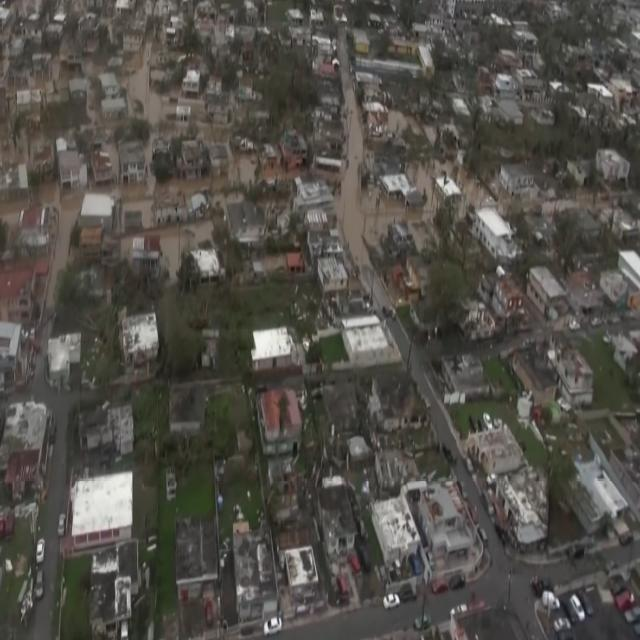house: (71, 469, 137, 546), (0, 404, 54, 494), (90, 544, 140, 625), (174, 516, 221, 599), (544, 330, 594, 408), (372, 497, 422, 567), (468, 423, 526, 478), (257, 387, 303, 455), (318, 485, 358, 550), (278, 529, 320, 588), (1, 321, 32, 394), (472, 209, 517, 259), (600, 251, 640, 305), (121, 312, 160, 367), (526, 266, 567, 318), (344, 317, 389, 364), (48, 332, 81, 390), (250, 327, 294, 369), (0, 269, 35, 321), (167, 387, 205, 431), (226, 201, 265, 241), (595, 146, 631, 182), (151, 188, 188, 223), (18, 203, 55, 237), (501, 164, 535, 198), (58, 150, 87, 188), (118, 142, 145, 182), (317, 256, 346, 292), (379, 173, 416, 201), (181, 142, 205, 180), (434, 177, 464, 206), (446, 0, 486, 20), (520, 70, 545, 100), (283, 136, 308, 162), (390, 38, 418, 58), (207, 103, 231, 125), (122, 28, 143, 52), (100, 72, 120, 96), (183, 70, 200, 95), (354, 30, 371, 54), (68, 78, 87, 98)
